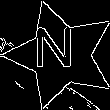N_S: (40, 30, 82, 80)
